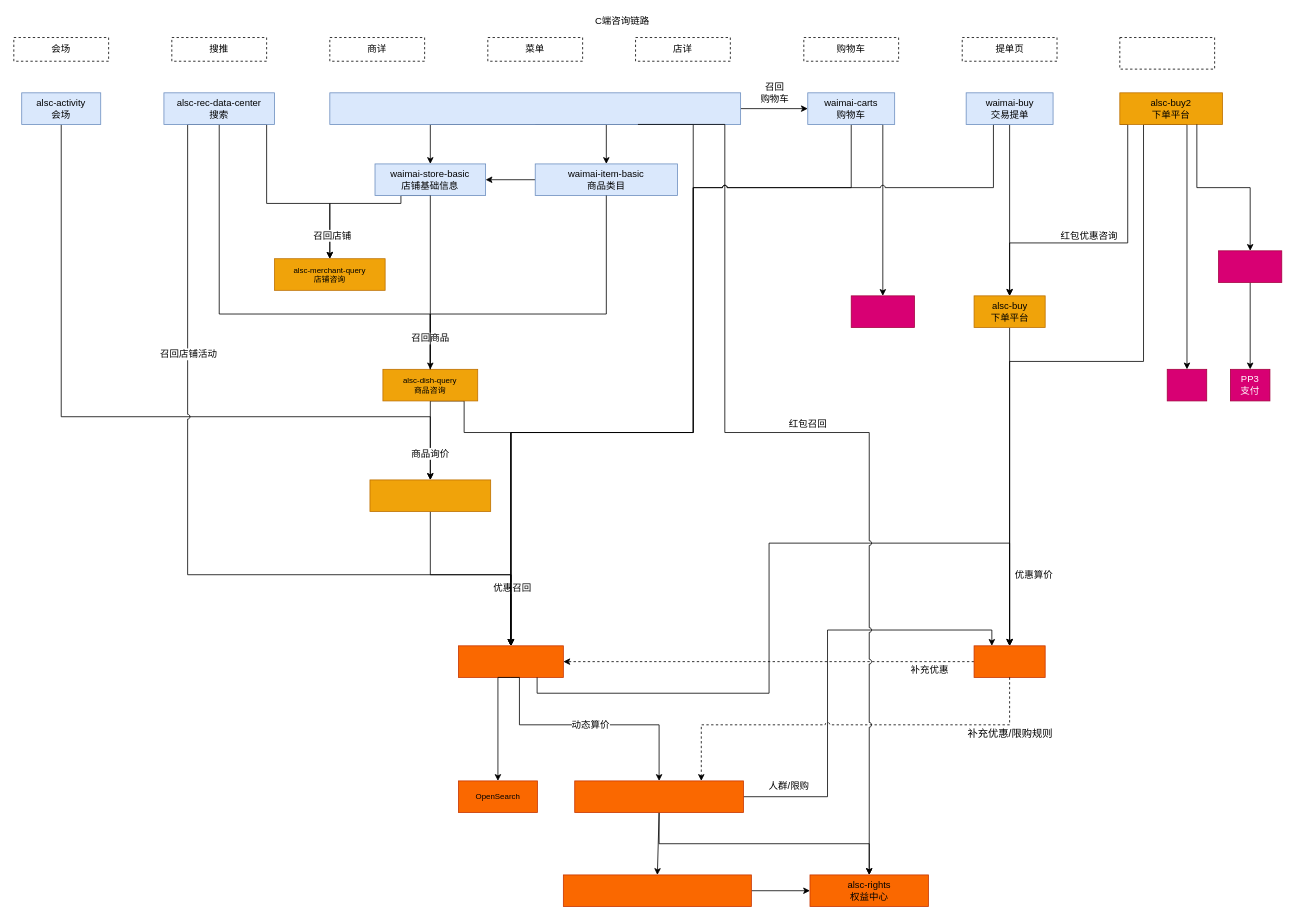
Some shapes in this 1296 by 920 pixel diagram are drawn without their labels. Here are the shapes that lost their labels. From the top down, the centre of each, then its label:
At (1167,53): "下单".
At (535,108): "waimai-store-detail 店详".
At (1250,266): "CP 集团收银台".
At (882,311): "carts2 购物车".
At (1186,385): "TP3 下单".
At (430,495): "alsc-item-query 商品询价（近端包）".
At (510,661): "alsc-mp-consult 活动咨询".
At (1009,661): "alsc-ump 营销平台".
At (658,796): "alsc-marketing-calculate-center 营销算价".
At (657,890): "alsc-marketing-dynamic-promotion 营销动态优惠".
